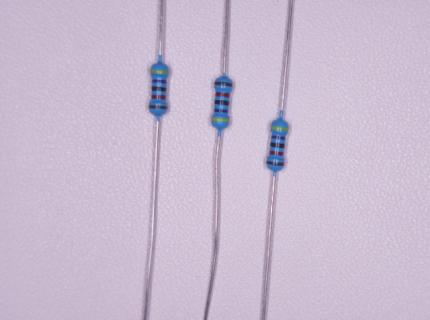Black band: (214, 99, 229, 106), (270, 142, 284, 149), (152, 86, 166, 92)
Brown band: (266, 160, 284, 167), (214, 81, 233, 87), (149, 105, 168, 110)
Red band: (215, 92, 231, 98), (269, 150, 284, 156), (152, 94, 166, 100)
Violet band: (271, 135, 286, 141), (152, 79, 167, 84), (214, 108, 228, 113)
Yellow band: (211, 118, 229, 123), (271, 126, 289, 131), (150, 70, 169, 74)
